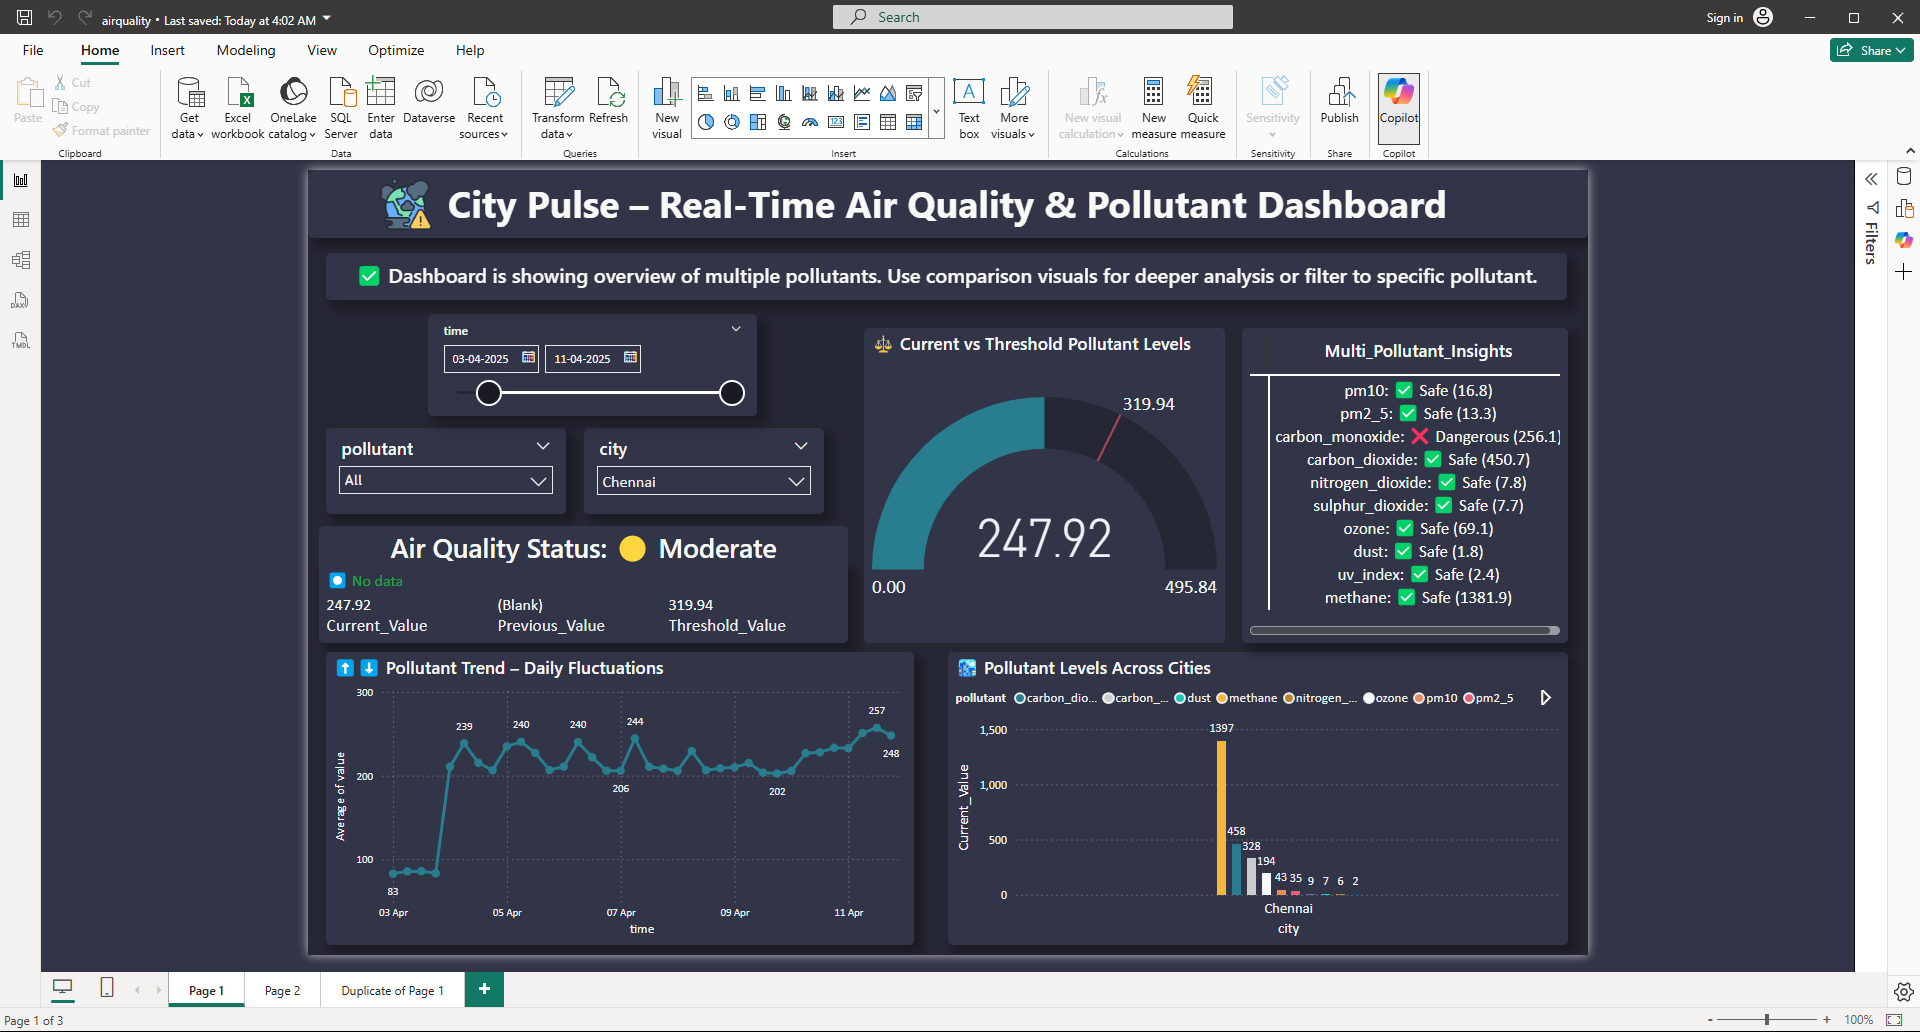

Layout of this report page (visuals, bound fields, positions):
{"tool":"powerbi","page":{"name":"Page 1","canvas":[1280,785],"ordinal":0},"visuals":[{"type":"slicer","fields":{"Values":["airquality1.city"]},"box":[276,258,240,86],"z":0},{"type":"slicer","fields":{"Values":["airquality1.pollutant"]},"box":[18,258,240,86],"z":1000},{"type":"multiRowCard","fields":{"Values":["airquality1.Current_Value","airquality1.Previous_Value","airquality1.Threshold_Value","airquality1.% Change Display_"]},"box":[11,393,529,80],"z":2000},{"type":"slicer","fields":{"Values":["airquality1.time"]},"box":[120,144,329,102],"z":3000},{"type":"lineChart","title":"⬆️⬇️ Pollutant Trend – Daily Fluctuations","fields":{"Category":["airquality1.time.Variation.Date Hierarchy.Day"],"Y":["Avg(airquality1.value)"]},"box":[18,482,588,293],"z":4000},{"type":"clusteredColumnChart","title":"🏙️ Pollutant Levels Across Cities","fields":{"Series":["airquality1.pollutant"],"Y":["airquality1.Current_Value"],"Category":["airquality1.city"]},"box":[640,482,620,293],"z":5000},{"type":"pivotTable","title":"Detailed insights","fields":{"Values":["Thresholds.Multi_Pollutant_Insights"]},"box":[934,158,326,315],"z":6000},{"type":"card","fields":{"Values":["Thresholds.Final_Insight"]},"box":[18,83,1241,47],"z":7000},{"type":"textbox","box":[0,0,1280,68],"z":8000},{"type":"card","fields":{"Values":["airquality1.Dynamic_Title"]},"box":[11,356,529,45],"z":9000},{"type":"image","box":[32,0,133,68],"z":11000},{"type":"gauge","title":"⚖️ Current vs Threshold Pollutant Levels","fields":{"Y":["airquality1.Current_Value"],"TargetValue":["airquality1.Threshold_Value"]},"box":[556,158,361,315],"z":12000}]}

Visuals, with their boxes on the page's 1280x785 design canvas (x1, y1, x2, y2). These are canvas units, not pixel positions in the 1920x1032 screenshot, which may show the page scaled, cropped or inside an application window:
slicer - airquality1.city: (276,258,516,344)
slicer - airquality1.pollutant: (18,258,258,344)
multiRowCard - airquality1.Current_Value x airquality1.Previous_Value: (11,393,540,473)
slicer - airquality1.time: (120,144,449,246)
"⬆️⬇️ Pollutant Trend – Daily Fluctuations" lineChart: (18,482,606,775)
"🏙️ Pollutant Levels Across Cities" clusteredColumnChart: (640,482,1260,775)
"Detailed insights" pivotTable: (934,158,1260,473)
card - Thresholds.Final_Insight: (18,83,1259,130)
textbox: (0,0,1280,68)
card - airquality1.Dynamic_Title: (11,356,540,401)
image: (32,0,165,68)
"⚖️ Current vs Threshold Pollutant Levels" gauge: (556,158,917,473)
